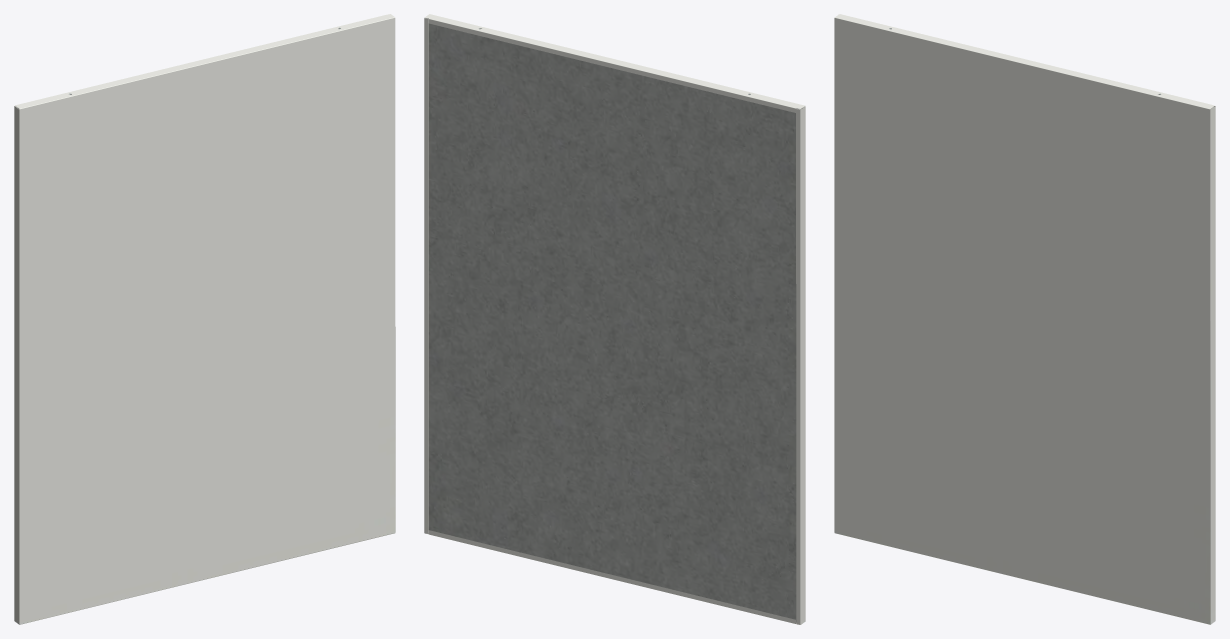
The model's file is 03 - MITTZON - 白板／留言板, 白色, 84x110x2 公分 IKEA 線上購物.glb.
The picture shows the model from 3 angles, left to right: view 1: azimuth 30°, elevation 25°; view 2: azimuth 150°, elevation 25°; view 3: azimuth 330°, elevation 25°; orthographic projection.
Visible parts, largest first — view 1: model; view 2: model; view 3: model.
Part boxes in pixels (x1,y1,x2,y2): model: (14,14,395,624); model: (424,14,805,624); model: (834,14,1215,624).
Bounding box in the file's own units: 0.8399 × 1.1 × 0.0199.
Materials: 1 (1 with a texture image).
